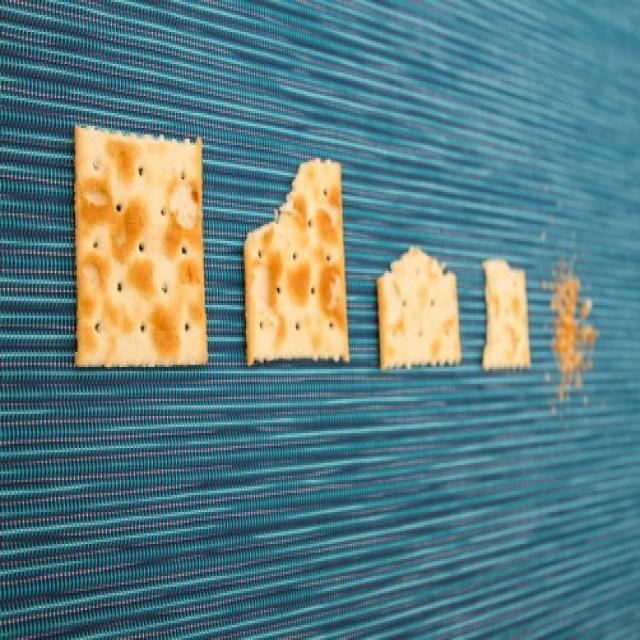Cracker: (65, 116, 223, 374), (230, 150, 364, 376), (371, 235, 465, 376), (473, 256, 541, 371)
